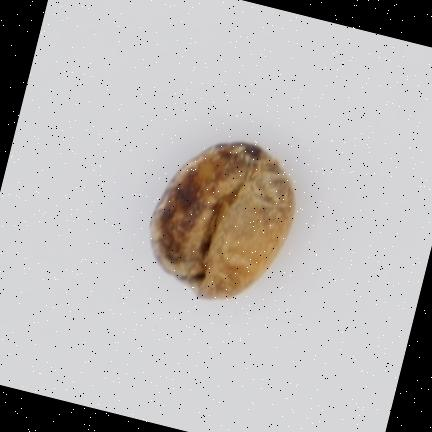partial-black: (150, 142, 295, 298)
